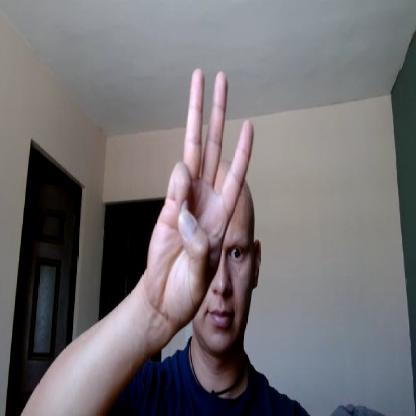W: (147, 65, 254, 326)
